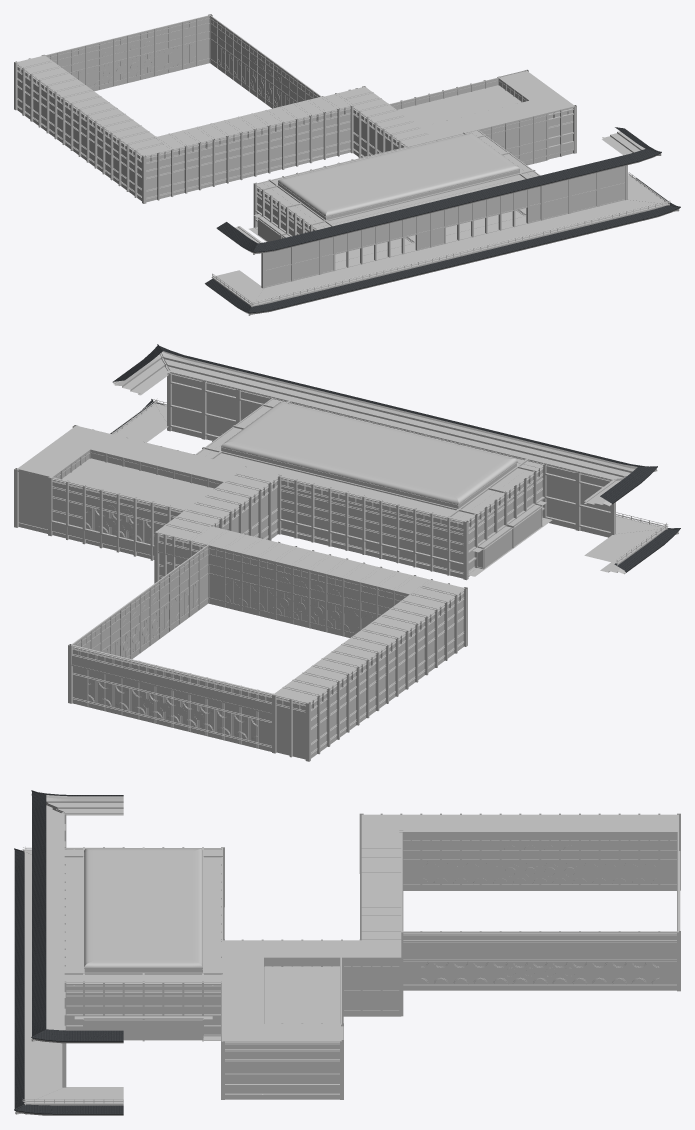
3 renders of one model, top to bottom at view 1: azimuth 30°, elevation 25°; view 2: azimuth 150°, elevation 25°; view 3: azimuth 270°, elevation 25°, orthographic. The views are drawn at different scales.
Visible parts, largest first — view 1: L2A5_2F-3_Wall_015, L2A5_2F-3_Wall_001, L2A5_2F-3_Ceiling_006, L2A5_2F-3_Wall_014, L2A5_2F-3_Wall_005, L2A5_2F-3_Wall_002, L2A5_2F-3_Wall_018, L2A5_2F-3_Wall_006, L2A5_2F-3_Wall_012, L2A5_2F-3_Ceiling_004, L2A5_2F-3_Ceiling_001, L2A5_2F-3_Ceiling_003 (+10 smaller); view 2: L2A5_2F-3_Ceiling_006, L2A5_2F-3_Wall_005, L2A5_2F-3_Wall_018, L2A5_2F-3_Wall_012, L2A5_2F-3_Wall_008, L2A5_2F-3_Wall_002, L2A5_2F-3_Wall_013, L2A5_2F-3_Wall_006, L2A5_2F-3_Wall_014, L2A5_2F-3_Ceiling_004, L2A5_2F-3_Wall_017, L2A5_2F-3_Ceiling_001 (+12 smaller); view 3: L2A5_2F-3_Wall_007, L2A5_2F-3_Wall_006, L2A5_2F-3_Ceiling_006, L2A5_2F-3_Wall_018, L2A5_2F-3_Wall_015, L2A5_2F-3_Wall_004, L2A5_2F-3_Wall_011, L2A5_2F-3_Ceiling_004, L2A5_2F-3_Ceiling_001, L2A5_2F-3_Wall_009, L2A5_2F-3_Ceiling_005, L2A5_2F-3_Ceiling_003 (+8 smaller).
Part boxes in pixels (x1,y1,x2,y2): L2A5_2F-3_Wall_015: (205, 172, 680, 315); L2A5_2F-3_Wall_001: (142, 105, 351, 203); L2A5_2F-3_Ceiling_006: (278, 133, 519, 217); L2A5_2F-3_Wall_014: (261, 165, 627, 288); L2A5_2F-3_Wall_005: (14, 15, 210, 110); L2A5_2F-3_Wall_002: (16, 62, 144, 200); L2A5_2F-3_Wall_018: (216, 127, 661, 254); L2A5_2F-3_Wall_006: (208, 14, 323, 108); L2A5_2F-3_Wall_012: (253, 105, 576, 227); L2A5_2F-3_Ceiling_004: (18, 56, 170, 155); L2A5_2F-3_Ceiling_001: (421, 70, 572, 138); L2A5_2F-3_Ceiling_003: (157, 94, 351, 150); L2A5_2F-3_Ceiling_006: (221, 402, 517, 505); L2A5_2F-3_Wall_005: (71, 644, 310, 761); L2A5_2F-3_Wall_018: (112, 344, 657, 506); L2A5_2F-3_Wall_012: (72, 425, 468, 580); L2A5_2F-3_Wall_008: (157, 531, 411, 637); L2A5_2F-3_Wall_002: (307, 588, 463, 758); L2A5_2F-3_Wall_013: (14, 468, 186, 560); L2A5_2F-3_Wall_006: (68, 544, 209, 703); L2A5_2F-3_Wall_014: (167, 372, 615, 537); L2A5_2F-3_Ceiling_004: (276, 580, 462, 701); L2A5_2F-3_Wall_017: (464, 463, 546, 576); L2A5_2F-3_Ceiling_001: (17, 427, 243, 481); L2A5_2F-3_Wall_007: (399, 830, 680, 890); L2A5_2F-3_Wall_006: (401, 931, 680, 991); L2A5_2F-3_Ceiling_006: (84, 849, 202, 969); L2A5_2F-3_Wall_018: (31, 790, 123, 1043); L2A5_2F-3_Wall_015: (14, 846, 123, 1115); L2A5_2F-3_Wall_004: (64, 981, 221, 1041); L2A5_2F-3_Wall_011: (223, 1040, 341, 1099); L2A5_2F-3_Ceiling_004: (363, 815, 677, 831); L2A5_2F-3_Ceiling_001: (224, 957, 343, 1040); L2A5_2F-3_Wall_009: (262, 956, 403, 1016); L2A5_2F-3_Ceiling_005: (264, 966, 339, 1023); L2A5_2F-3_Ceiling_003: (362, 831, 400, 940).
Size of the model in its own units: 12480 by 13454 by 1738.
